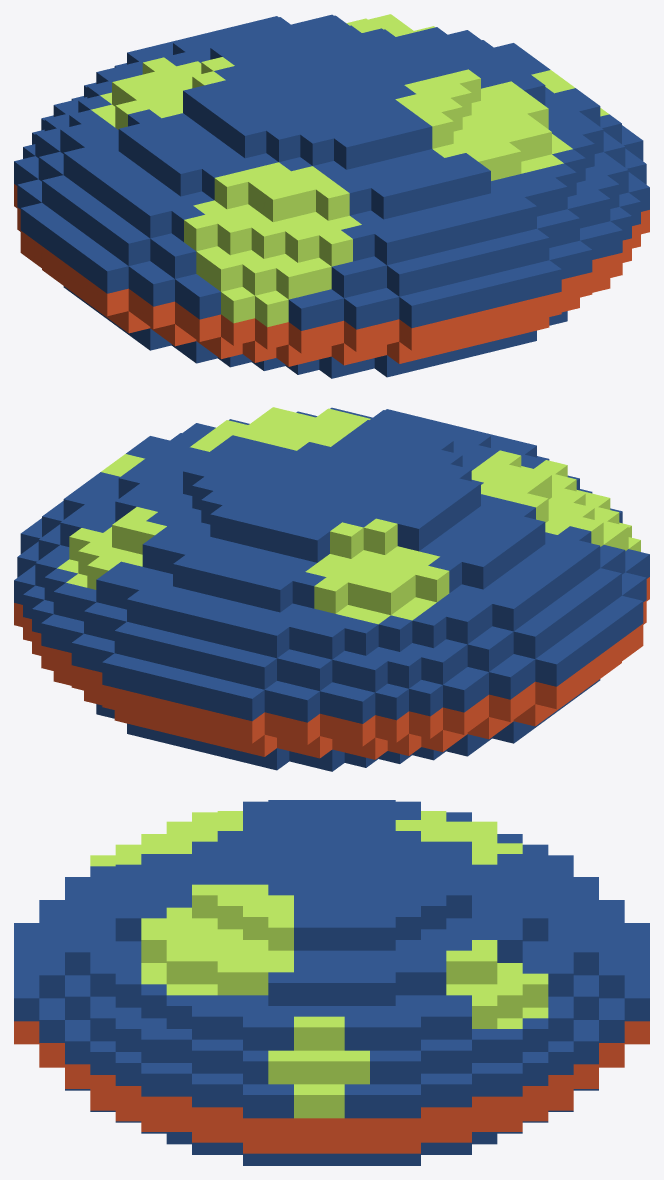
The model's file is jump_a.obj.
The picture shows the model from 3 angles, top to bottom: view 1: azimuth 30°, elevation 25°; view 2: azimuth 150°, elevation 25°; view 3: azimuth 270°, elevation 25°; orthographic projection. The views are drawn at different scales.
Bounding box in the file's own units: 25 × 8 × 25.
